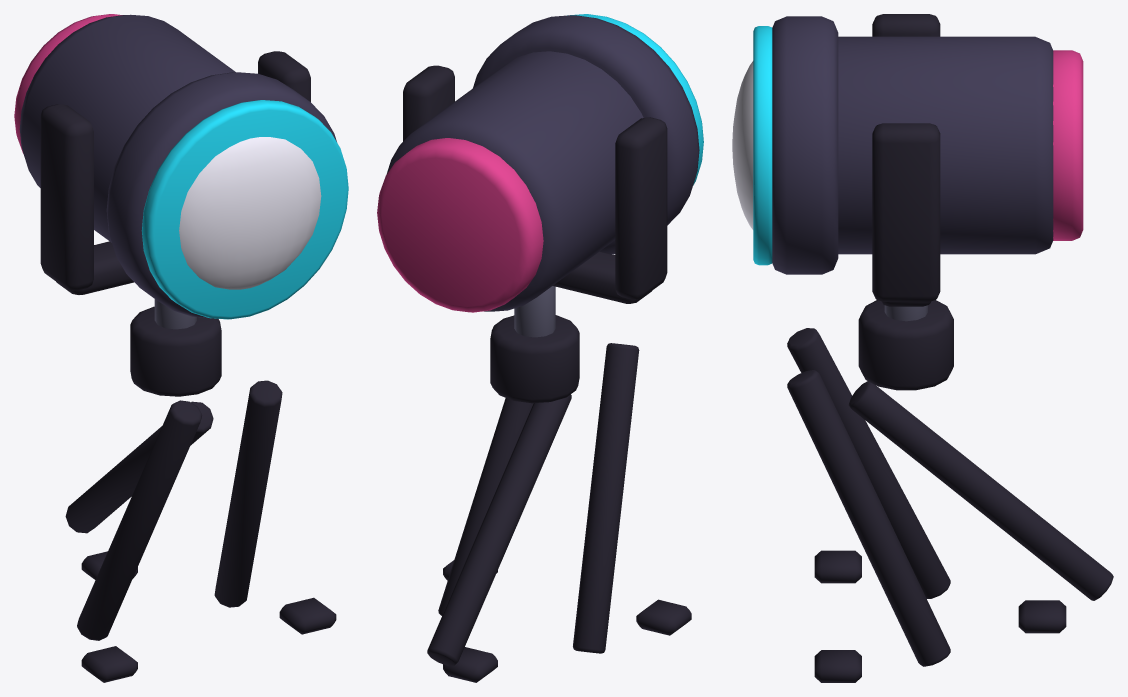
The model's file is Arena_Spotlight.fbx.
3 views of the same model, side by side, from view 1: azimuth 30°, elevation 25°; view 2: azimuth 150°, elevation 25°; view 3: azimuth 270°, elevation 25° (orthographic). The views are drawn at different scales.
Parts seen in each view (by area): view 1: Dark, Body, Neon_Cyan, Neon_White, Pink, Metal; view 2: Dark, Body, Pink, Metal, Neon_Cyan; view 3: Dark, Body, Pink, Neon_Cyan, Neon_White, Metal.
Part boxes in pixels (x1,y1,x2,y2): Dark: (40, 51, 336, 682); Body: (19, 14, 336, 317); Neon_Cyan: (141, 100, 348, 319); Neon_White: (179, 137, 321, 289); Pink: (14, 14, 122, 153); Metal: (154, 299, 196, 329); Dark: (403, 65, 691, 682); Body: (386, 15, 699, 311); Pink: (377, 138, 543, 312); Metal: (514, 286, 555, 337); Neon_Cyan: (567, 14, 703, 185); Dark: (787, 14, 1113, 682); Body: (772, 16, 1053, 274); Pink: (1053, 50, 1083, 240); Neon_Cyan: (753, 26, 772, 265); Neon_White: (732, 61, 753, 229); Metal: (884, 305, 927, 321).
Size of the model in its own units: 3.01 by 6.83 by 3.93.
